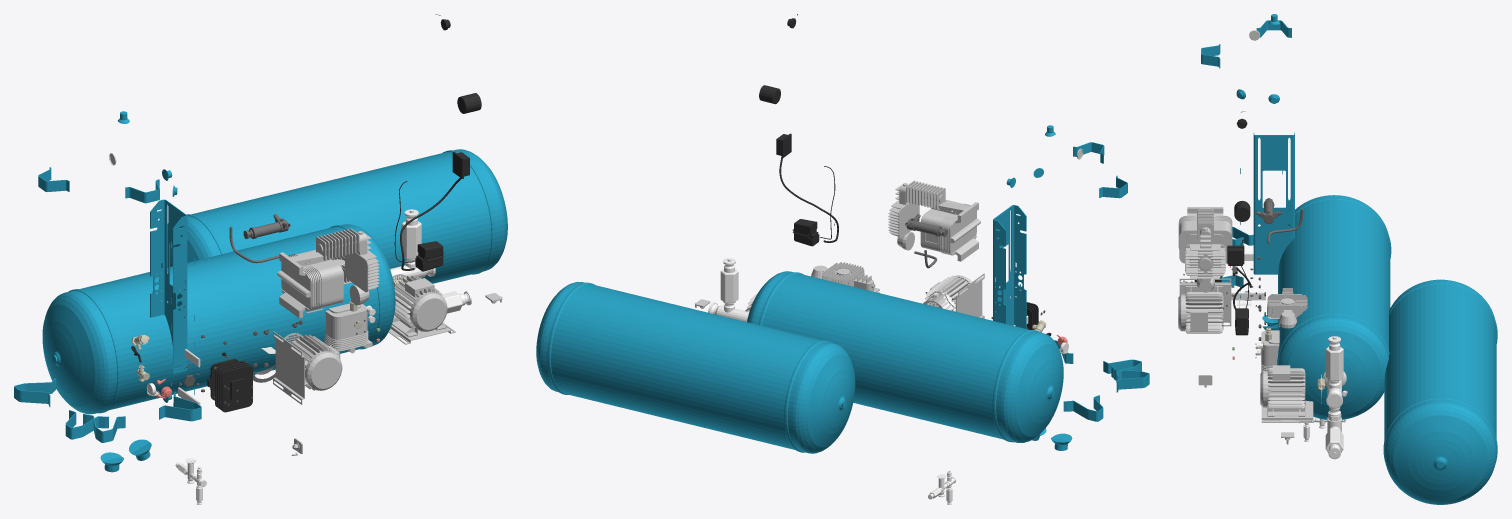
The model's file is AC04anim.glb.
3 renders of one model, left to right at view 1: azimuth 30°, elevation 25°; view 2: azimuth 150°, elevation 25°; view 3: azimuth 270°, elevation 25°, orthographic. The views are drawn at different scales.
Visible parts, largest first — view 1: E002CILI, E002ENCH001_1, E002ALUM, E002AZUL, E002ENCH_1, E002PLNE, E002AZUL001, E002MNEG, E002GRIF002, E002PLAT, sanada001_1; view 2: E002ENCH001_1, E002CILI, E002ALUM, E002AZUL, E002PLNE, E002AZUL001, E002ENCH_1, E002GRIF002; view 3: E002ENCH001_1, E002CILI, E002ALUM, E002AZUL, E002ENCH_1, E002GRIF002, E002PLNE, E002AZUL001, E002PLAT, E002BLAN.
Part boxes in pixels (<box>): E002CILI: <box>42,224,395,414</box>; E002ENCH001_1: <box>161,149,507,283</box>; E002ALUM: <box>273,228,379,455</box>; E002AZUL: <box>83,169,201,472</box>; E002ENCH_1: <box>306,255,502,353</box>; E002PLNE: <box>394,14,481,271</box>; E002AZUL001: <box>14,111,129,439</box>; E002MNEG: <box>207,352,252,412</box>; E002GRIF002: <box>390,209,471,316</box>; E002PLAT: <box>229,214,290,382</box>; sanada001_1: <box>175,458,206,504</box>; E002ENCH001_1: <box>536,282,855,453</box>; E002CILI: <box>747,271,1063,442</box>; E002ALUM: <box>888,180,984,318</box>; E002AZUL: <box>993,142,1141,450</box>; E002PLNE: <box>759,14,838,246</box>; E002AZUL001: <box>1045,125,1149,421</box>; E002ENCH_1: <box>694,262,879,311</box>; E002GRIF002: <box>708,258,749,321</box>; E002ENCH001_1: <box>1383,279,1497,504</box>; E002CILI: <box>1277,195,1391,419</box>; E002ALUM: <box>1178,207,1239,387</box>; E002AZUL: <box>1201,44,1294,330</box>; E002ENCH_1: <box>1260,288,1322,444</box>; E002GRIF002: <box>1323,336,1346,459</box>; E002PLNE: <box>1220,111,1251,335</box>; E002AZUL001: <box>1232,14,1291,245</box>; E002PLAT: <box>1255,198,1303,244</box>; E002BLAN: <box>1231,253,1265,300</box>.
Bounding box in the file's own units: 5691 × 4627 × 3193.
